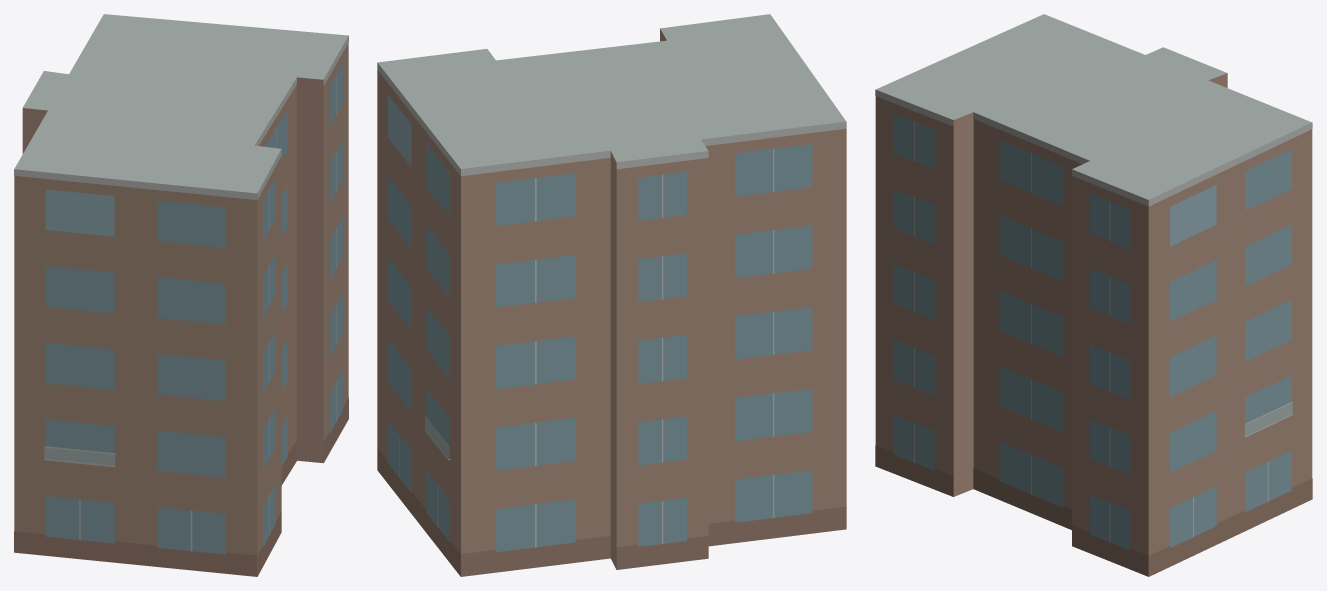
The model's file is survey-upis-32835408.glb.
The picture shows the model from 3 angles, left to right: view 1: azimuth 30°, elevation 25°; view 2: azimuth 150°, elevation 25°; view 3: azimuth 270°, elevation 25°; orthographic projection. The views are drawn at different scales.
Parts seen in each view (by area): view 1: survey-upis-32835408.tmp; view 2: survey-upis-32835408.tmp; view 3: survey-upis-32835408.tmp.
Part boxes in pixels (x1=…): survey-upis-32835408.tmp: x1=14, y1=14, x2=348, y2=576; survey-upis-32835408.tmp: x1=377, y1=14, x2=846, y2=576; survey-upis-32835408.tmp: x1=875, y1=14, x2=1312, y2=576.
Size of the model in its own units: 14.94 by 14.1 by 14.82.
